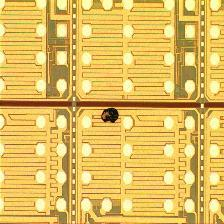PARTICLE: (102, 106, 122, 126)
